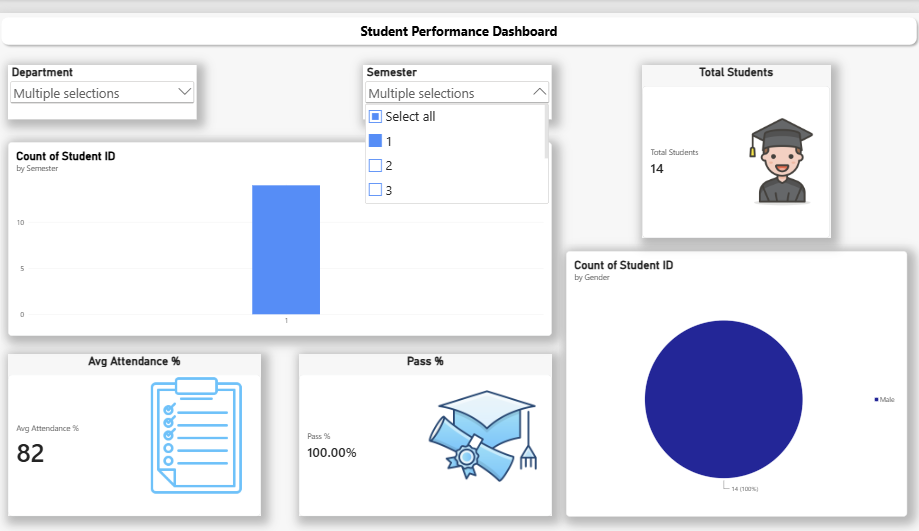

Layout of this report page (visuals, bound fields, positions):
{"tool":"powerbi","page":{"name":"Page 1","canvas":[1920,1080],"ordinal":0},"visuals":[{"type":"cardVisual","title":"Pass %","fields":{"Data":["Student Table.Pass %"]},"box":[627.2,708.7,525.3,337.4],"z":0},{"type":"cardVisual","title":" Avg Attendance %","fields":{"Data":["Attendance Table.Avg Attendance"]},"box":[22.6,708.7,525.3,337.4],"z":1000},{"type":"clusteredColumnChart","fields":{"Category":["Student Table.Semester"],"Y":["CountNonNull(Student Table.Student ID)"]},"box":[22.6,267.2,1129.8,403],"z":2000},{"type":"pieChart","fields":{"Category":["Student Table.Gender"],"Y":["CountNonNull(Student Table.Student ID)"]},"box":[1181.9,493.6,708.7,552.5],"z":3000},{"type":"shape","box":[0,0,1920,74.7],"z":4000},{"type":"slicer","fields":{"Values":["Student Table.Department"]},"box":[22.6,108.7,391.7,113.2],"z":5000},{"type":"slicer","fields":{"Values":["Student Table.Semester"]},"box":[760.8,108.7,391.7,113.2],"z":6000},{"type":"cardVisual","title":"Total Students","fields":{"Data":["Student Table.Total Students"]},"box":[1340.4,108.7,391.7,360],"z":7000},{"type":"image","box":[1537.5,151.7,187.5,316.7],"z":8000},{"type":"image","box":[283,729.1,262.6,296.6],"z":9000},{"type":"image","box":[889.8,720,240,317],"z":10000}]}

Visuals, with their boxes in screenshot pixels (x1, y1, x2, y2), scaled from the page's 1920x1080 canvas onto the 919x531 screenshot:
"Pass %" cardVisual: crop(300, 348, 552, 514)
" Avg Attendance %" cardVisual: crop(11, 348, 262, 514)
clusteredColumnChart - Student Table.Semester x CountNonNull(Student Table.Student ID): crop(11, 131, 552, 330)
pieChart - Student Table.Gender x CountNonNull(Student Table.Student ID): crop(566, 243, 905, 514)
shape: crop(0, 0, 918, 37)
slicer - Student Table.Department: crop(11, 53, 198, 109)
slicer - Student Table.Semester: crop(364, 53, 552, 109)
"Total Students" cardVisual: crop(642, 53, 829, 230)
image: crop(736, 75, 826, 230)
image: crop(135, 358, 261, 504)
image: crop(426, 354, 541, 510)
